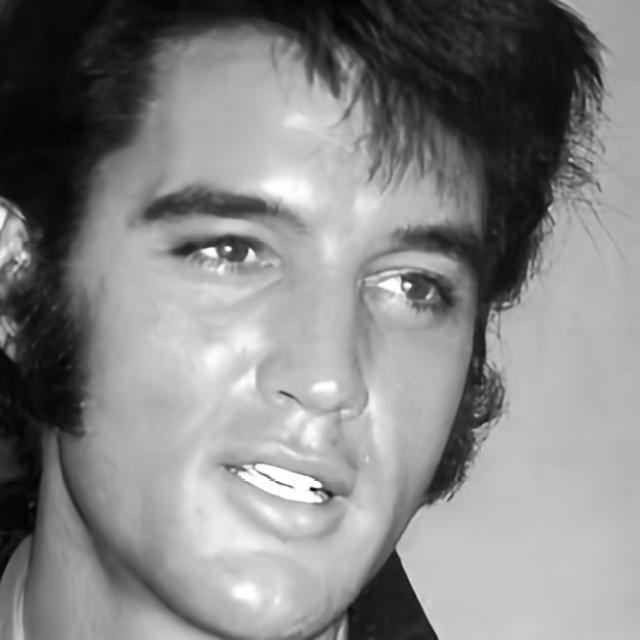neutral: (58, 18, 484, 640)
